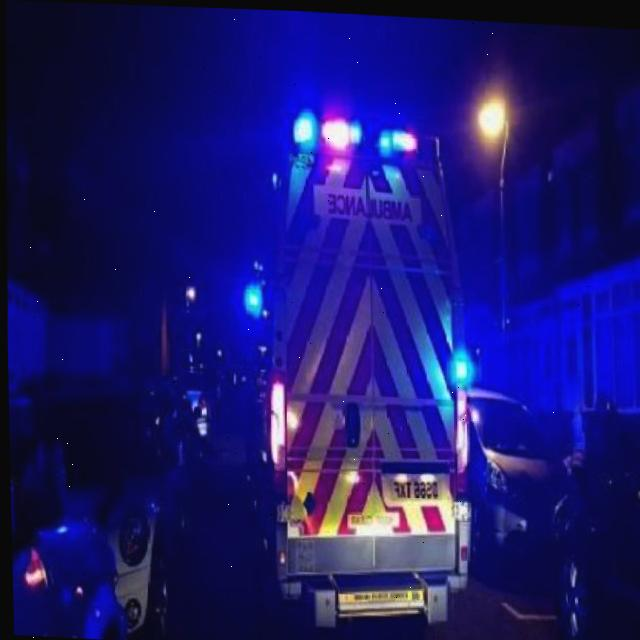emergency: (216, 98, 479, 635)
